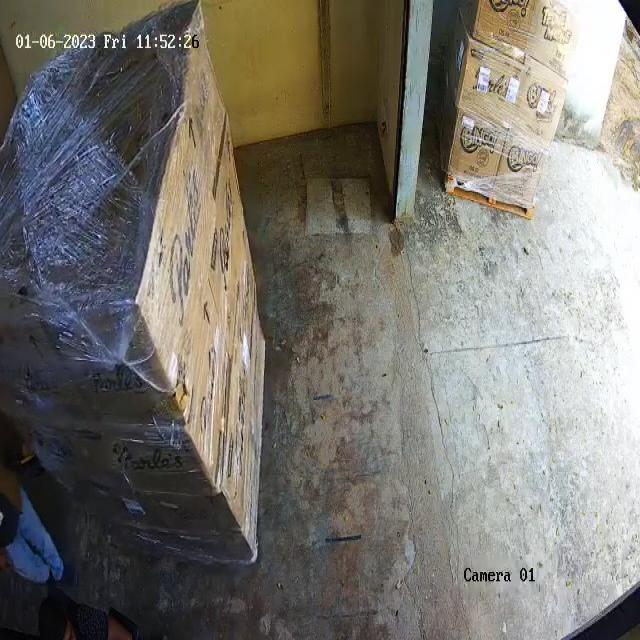leakage: (170, 363, 193, 426)
